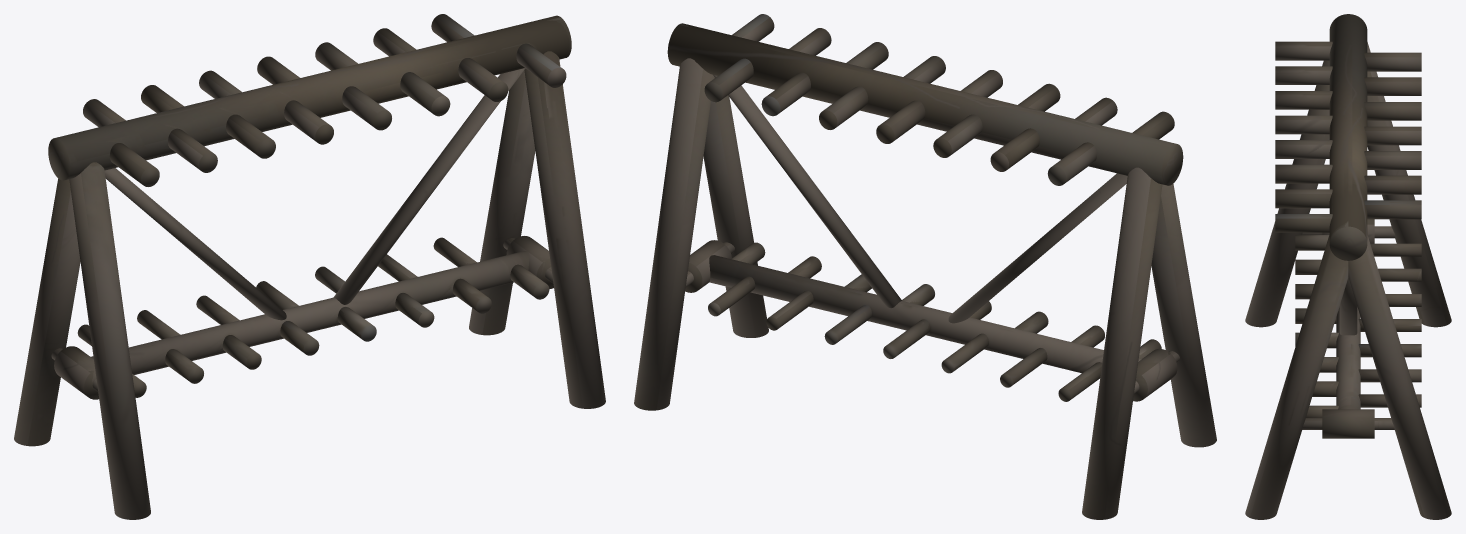
Rendered from SkiRack.fbx.
3 views of the same model, side by side, from view 1: azimuth 30°, elevation 25°; view 2: azimuth 150°, elevation 25°; view 3: azimuth 270°, elevation 25° (orthographic). The views are drawn at different scales.
Parts seen in each view (by area): view 1: Cylinder.018; view 2: Cylinder.018; view 3: Cylinder.018.
Boxes of the visible parts, x1=… form: Cylinder.018: x1=14, y1=14, x2=605, y2=519; Cylinder.018: x1=634, y1=14, x2=1216, y2=519; Cylinder.018: x1=1245, y1=14, x2=1451, y2=519.
Size of the model in its own units: 4.53 by 11.04 by 7.18.
